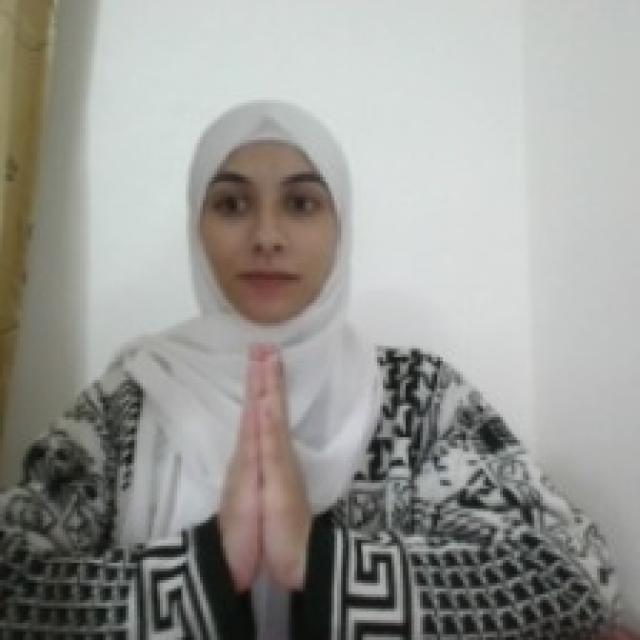sorry: (210, 336, 316, 608)
